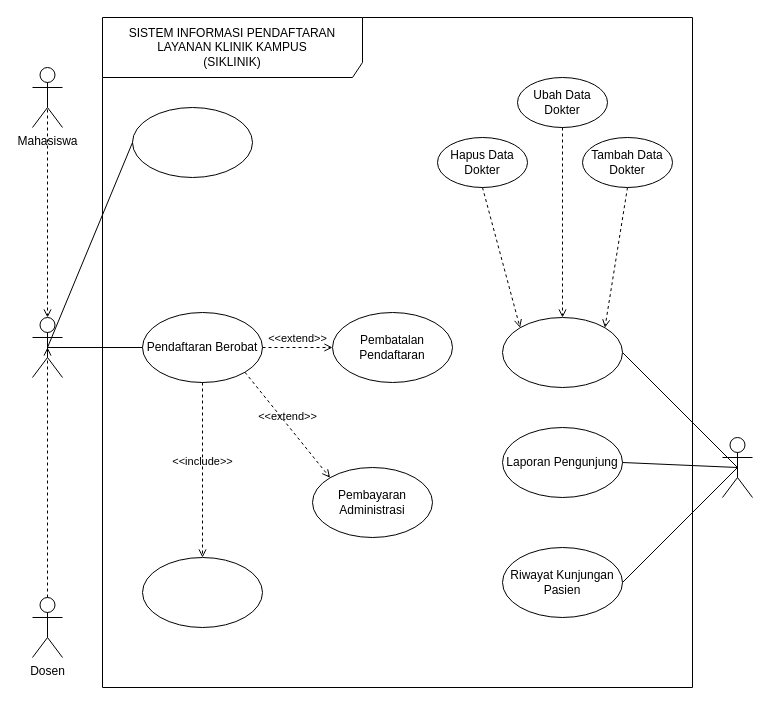
This 776x711 diagram has some shape labels left out. The centre of each missing label's shape, as x and y in pixels:
"Jadwal Dokter" goes at point (192, 142).
"Kelola Data Dokter" goes at point (562, 352).
"Ketersediaan Jadwal" goes at point (202, 592).
"Pasien" goes at point (47, 347).
"Petugas" goes at point (737, 467).
